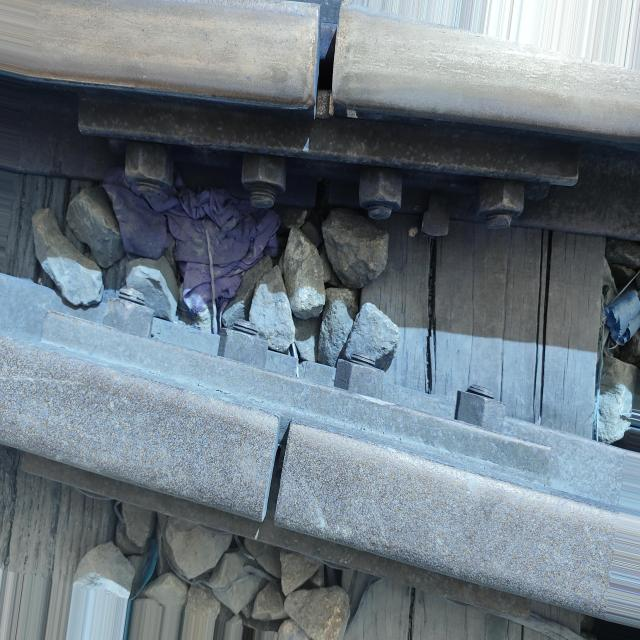crack: (270, 3, 378, 130), (227, 408, 311, 538)
